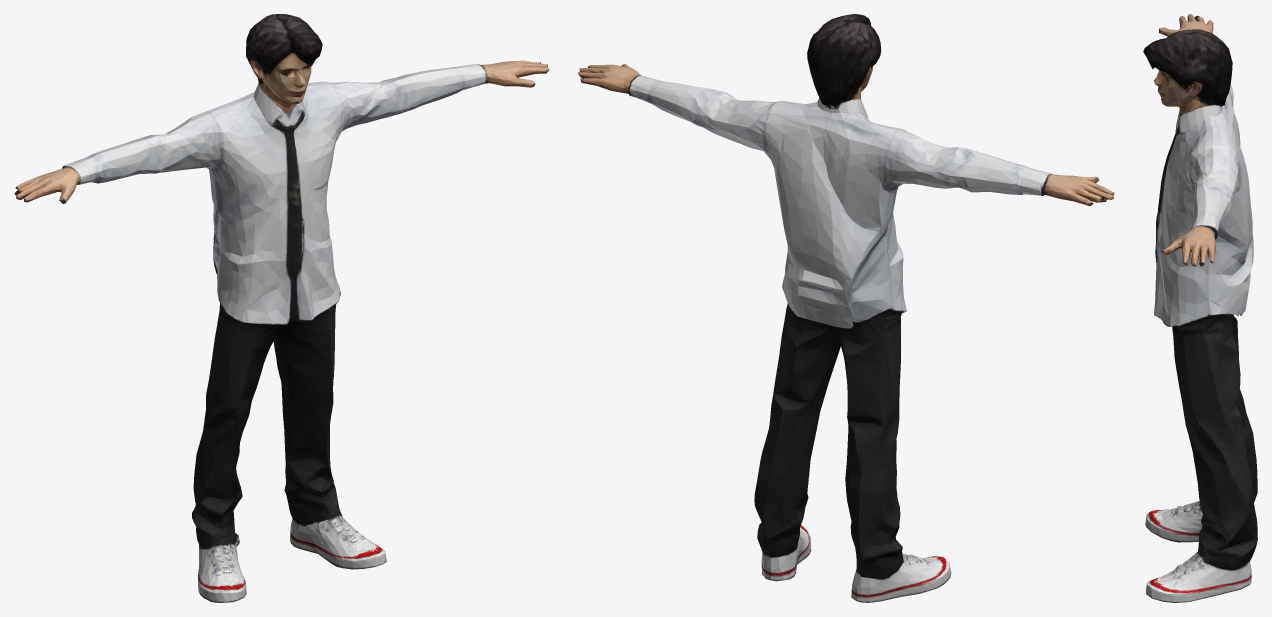
File: jai-source.glb
The picture shows the model from 3 angles, left to right: view 1: azimuth 30°, elevation 25°; view 2: azimuth 150°, elevation 25°; view 3: azimuth 270°, elevation 25°; orthographic projection. The views are drawn at different scales.
Visible parts, largest first — view 1: world; view 2: world; view 3: world.
Boxes of the visible parts, <box> form: world: <box>14,14,549,602</box>; world: <box>578,14,1114,602</box>; world: <box>1143,14,1257,602</box>.
Size of the model in its own units: 0.9991 by 0.9888 by 0.1933.
1 material, 1 textured.
